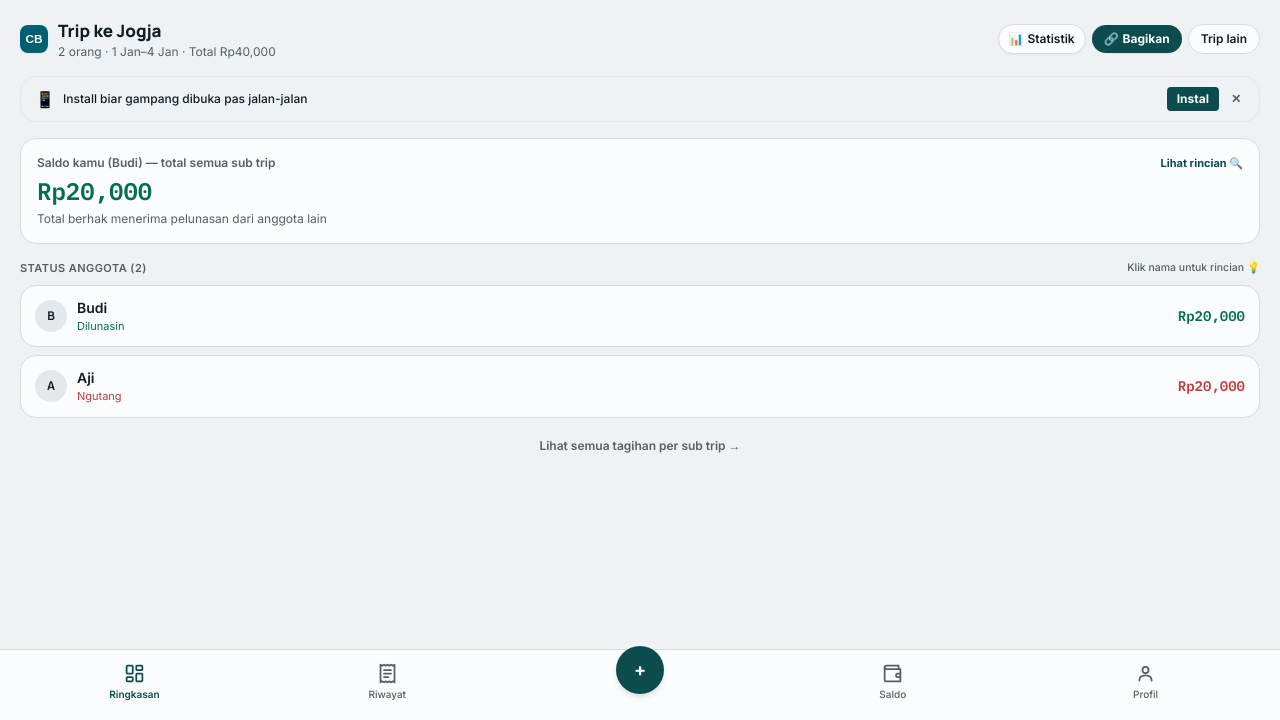
Test case: RingkasanScreen — with sub trips › opens the add sheet from the FAB and can be closed again
Click the button named "Tambah sub trip". click: (640, 670)
box: x1=616 y1=646 x2=664 y2=694
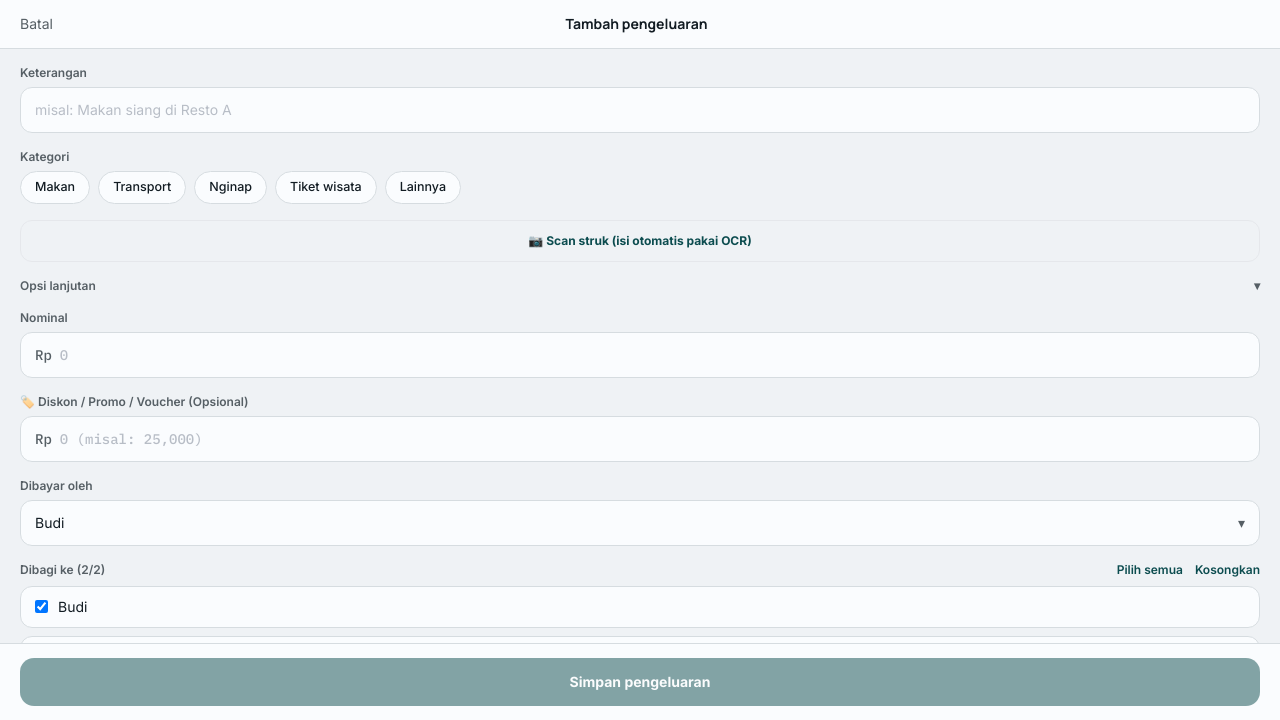
Result: the text "Tambah pengeluaran" is shown at x1=565 y1=14 x2=707 y2=34
Click the button "Batal". click: (36, 24)
box: x1=20 y1=14 x2=53 y2=34
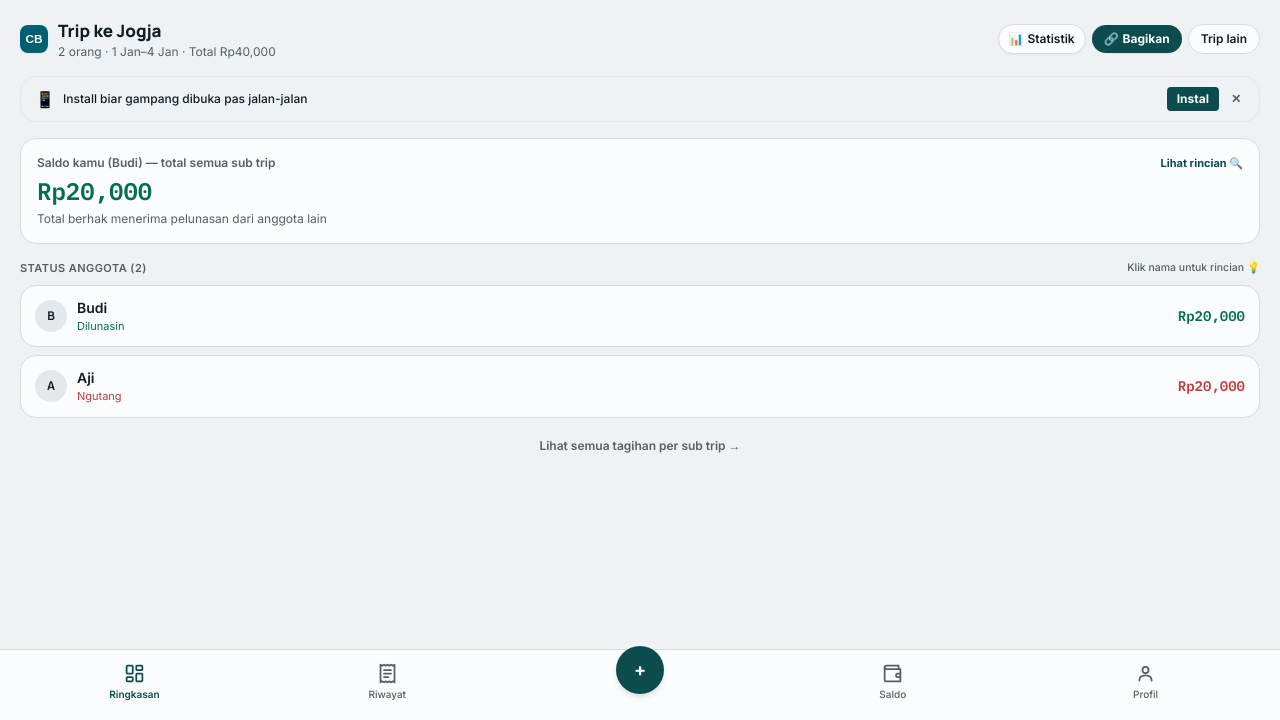
Result: the text "Tambah pengeluaran" is gone
